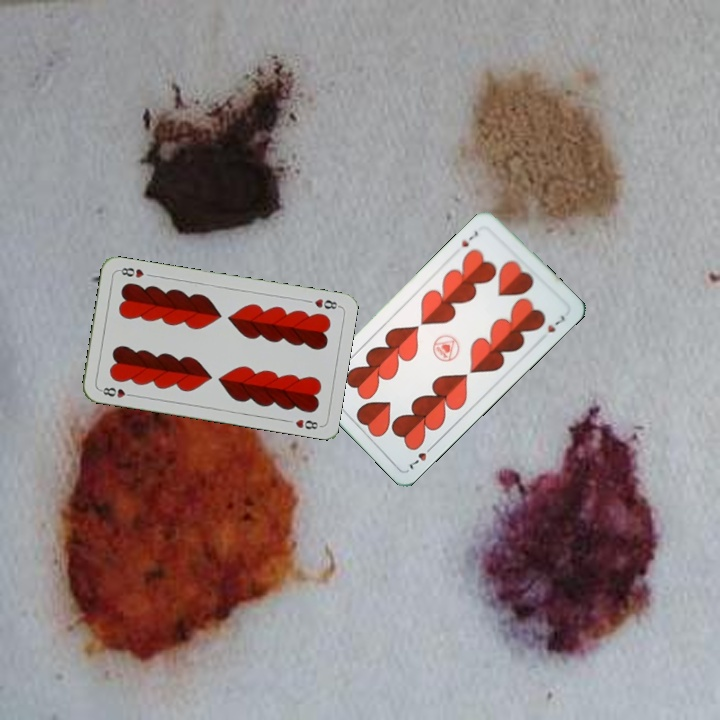H7: (404, 440, 437, 472), (457, 227, 481, 250)
H8: (96, 383, 136, 400), (310, 295, 342, 312)
